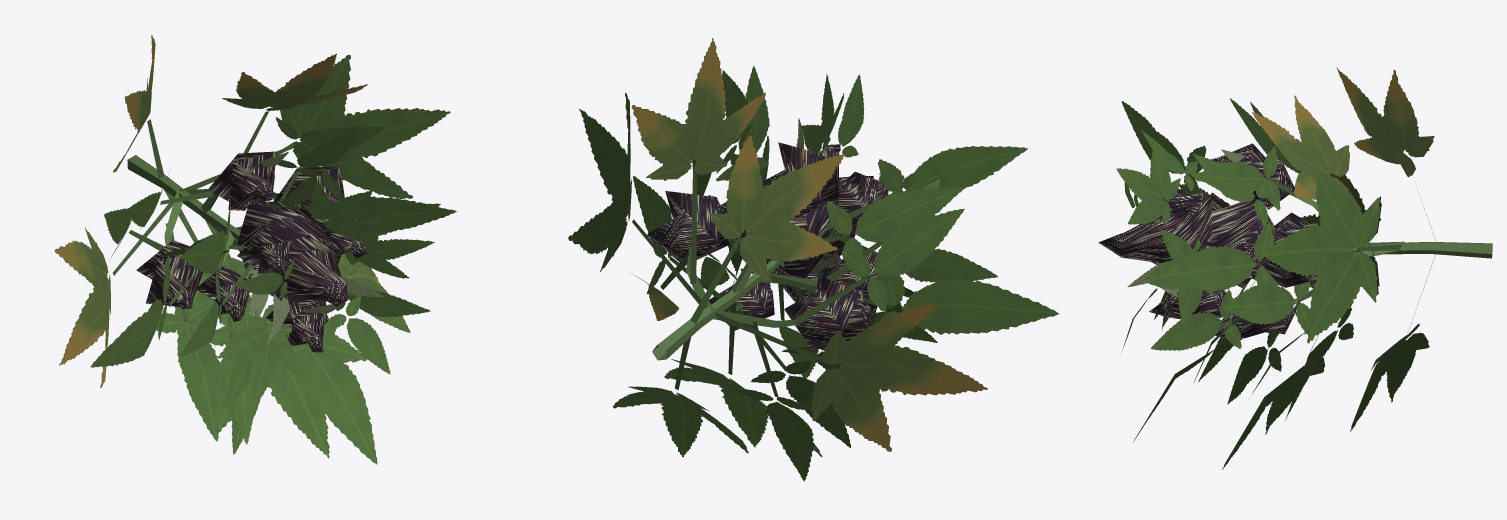
The model's file is p_dark_auto_ripe_c0_cards.obj.
3 renders of one model, left to right at view 1: azimuth 30°, elevation 25°; view 2: azimuth 150°, elevation 25°; view 3: azimuth 270°, elevation 25°, orthographic. The views are drawn at different scales.
Size of the model in its own units: 1.25 by 1.15 by 0.947.
Materials: 1 (1 with a texture image).
